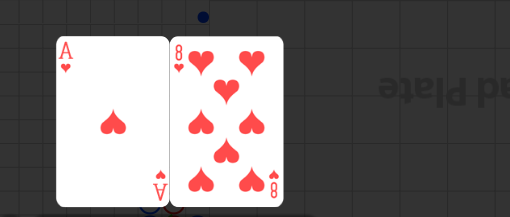8H: (267, 168, 280, 199)
AH: (58, 41, 75, 76)
